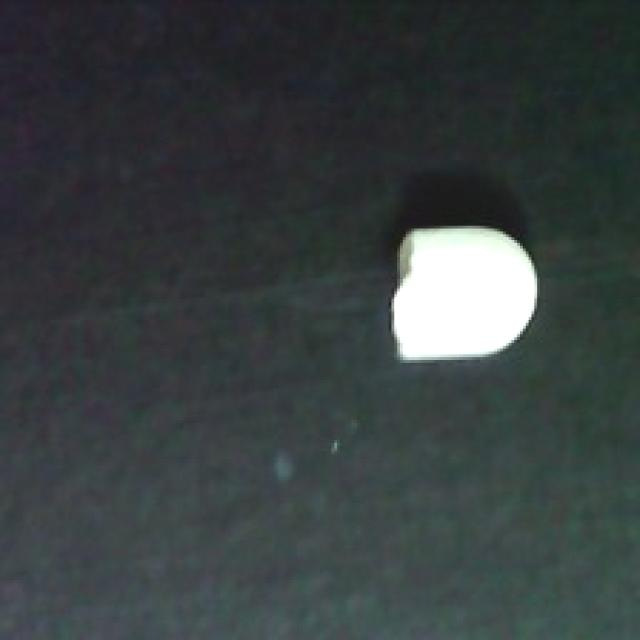defected: (389, 217, 543, 363)
